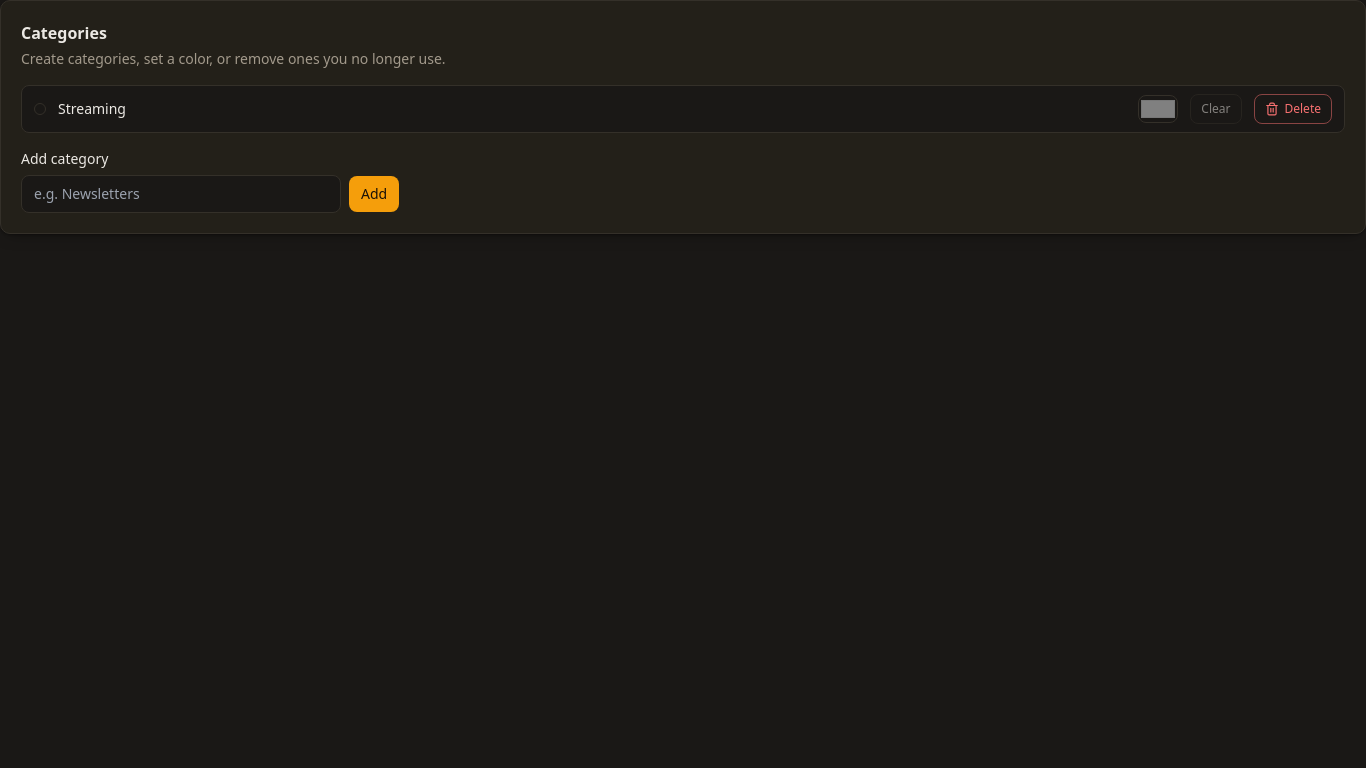
Test: delete via branded confirmation (Story 3.4) › cancelling the in-use confirmation deletes nothing
Expected: the element "Categories" is shown, top-left (0, 0), bottom-right (1365, 234)
Click the button with aria-label "Delete Streaming" at (1293, 109), box top-left (1254, 94), bottom-right (1332, 124)
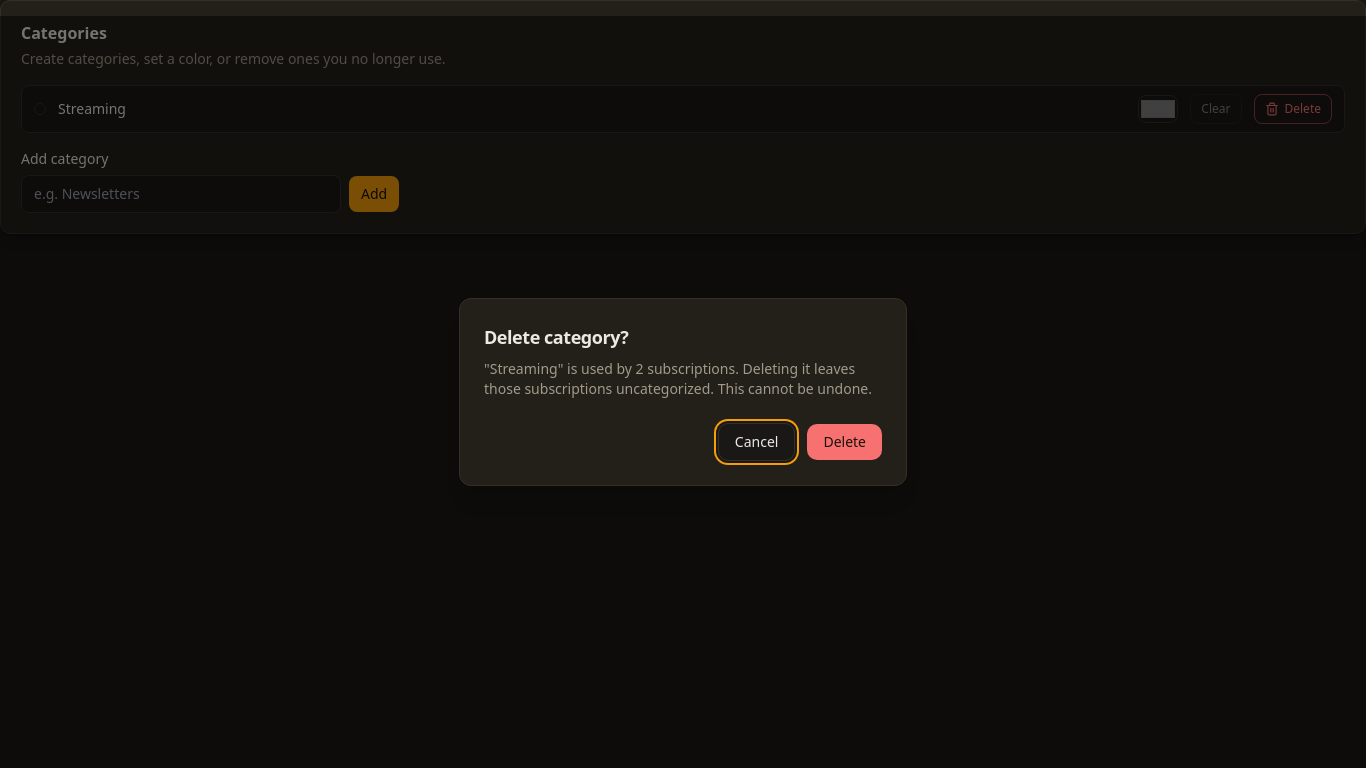
Click the button "Cancel" at (757, 442), box top-left (718, 423), bottom-right (795, 461)
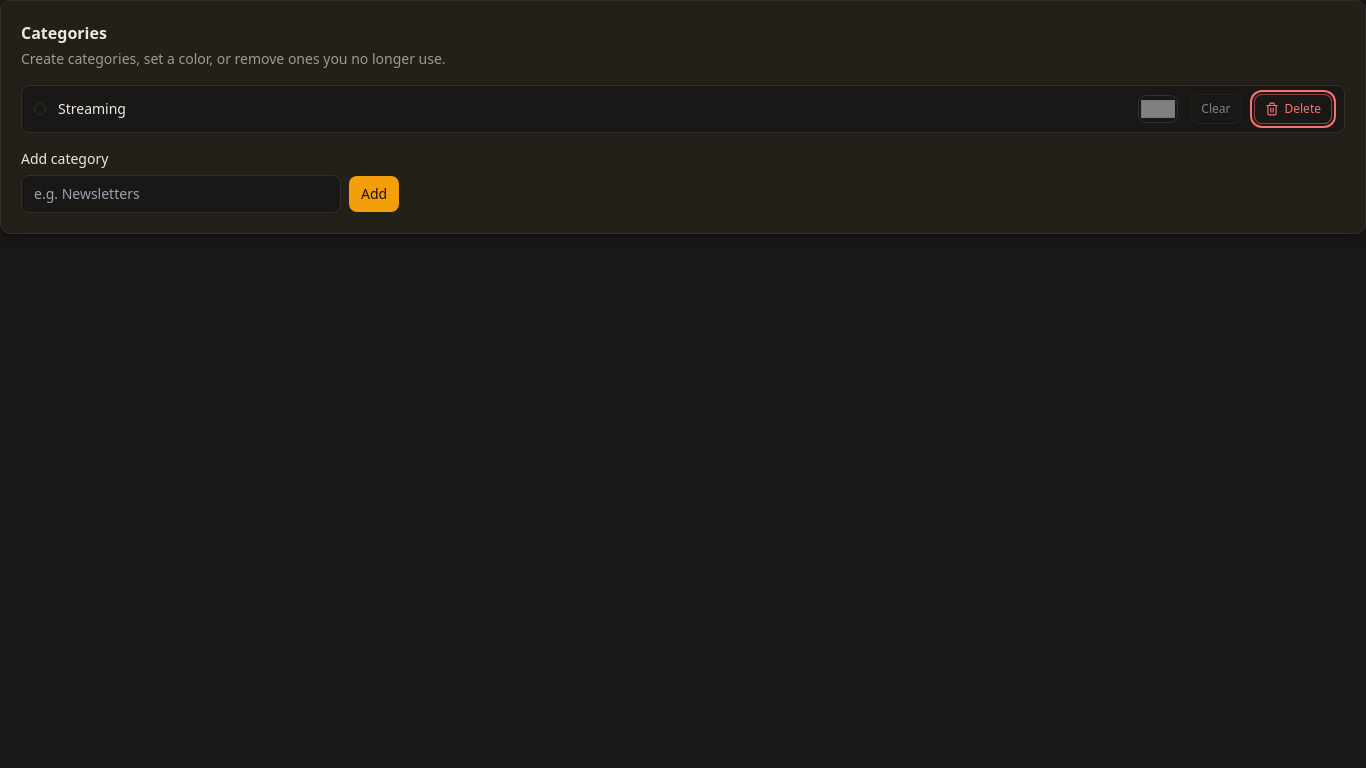
Expected: the text "Streaming" is shown, top-left (58, 99), bottom-right (126, 118)
Expected: the dialog is gone
